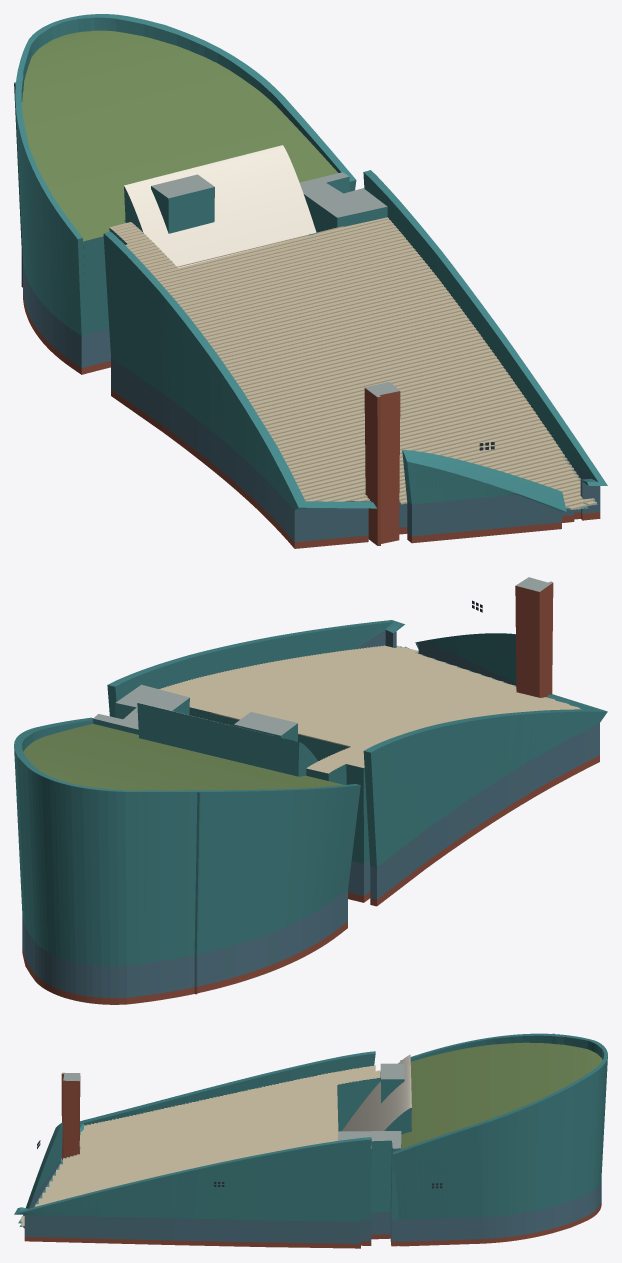
File: nemo.glb
The picture shows the model from 3 angles, top to bottom: view 1: azimuth 30°, elevation 25°; view 2: azimuth 150°, elevation 25°; view 3: azimuth 270°, elevation 25°; orthographic projection. The views are drawn at different scales.
Visible parts, largest first — view 1: nemo; view 2: nemo; view 3: nemo.
Boxes of the visible parts, x1,y1,x2,y2 form: nemo: (14, 14, 607, 548); nemo: (14, 577, 607, 1004); nemo: (14, 1033, 607, 1248).
Size of the model in its own units: 44.83 by 32.58 by 117.
